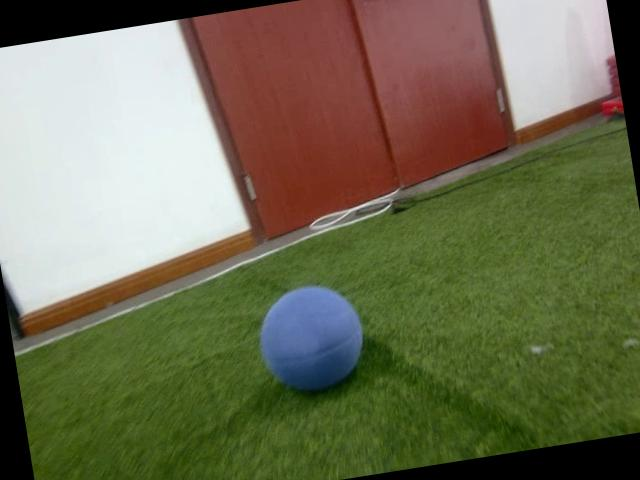blue_ball: (252, 276, 371, 400)
